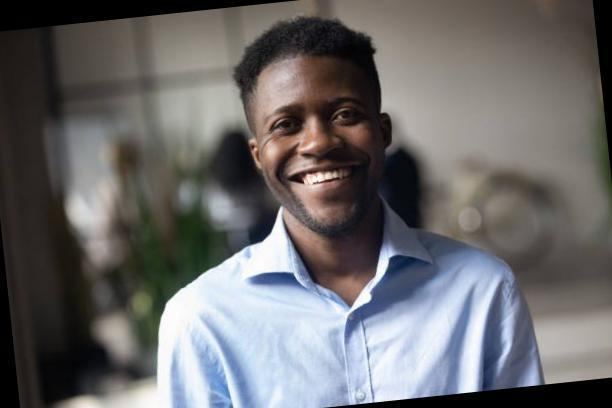Sober: (255, 57, 381, 225)
